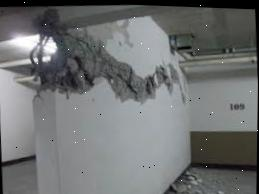spalling: (29, 22, 178, 101)
